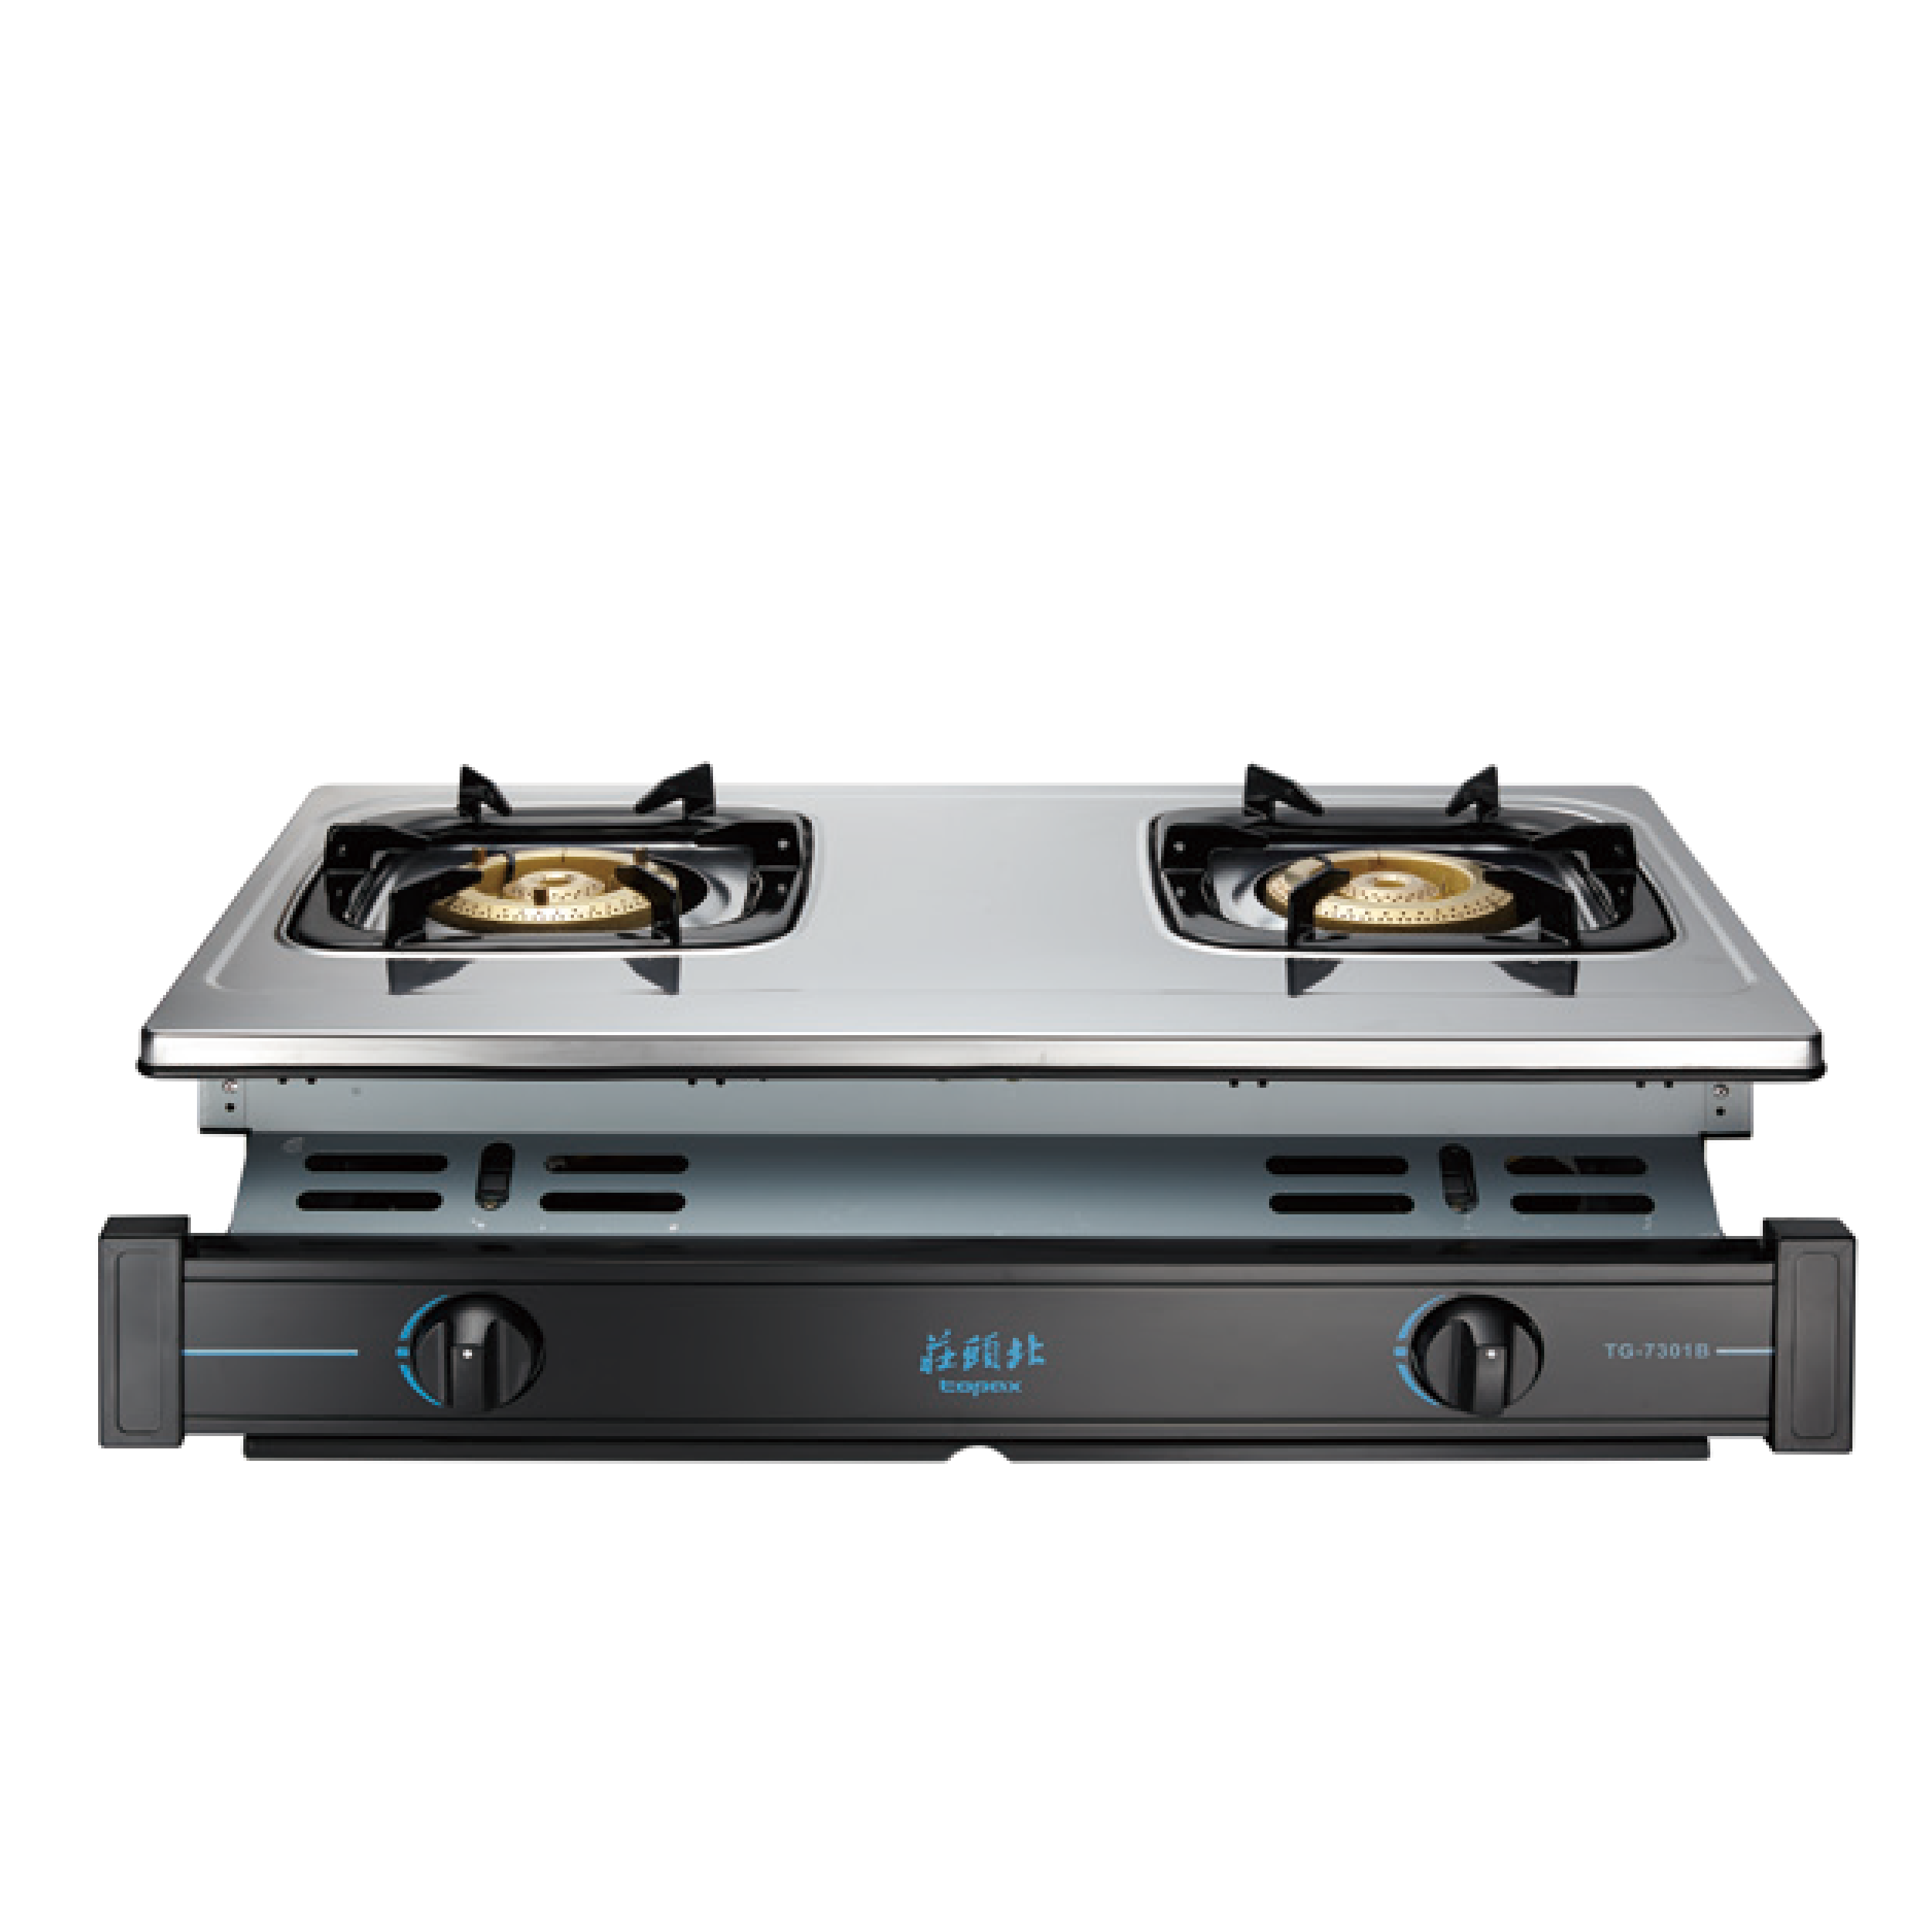gasoven: (83, 738, 1877, 1481)
